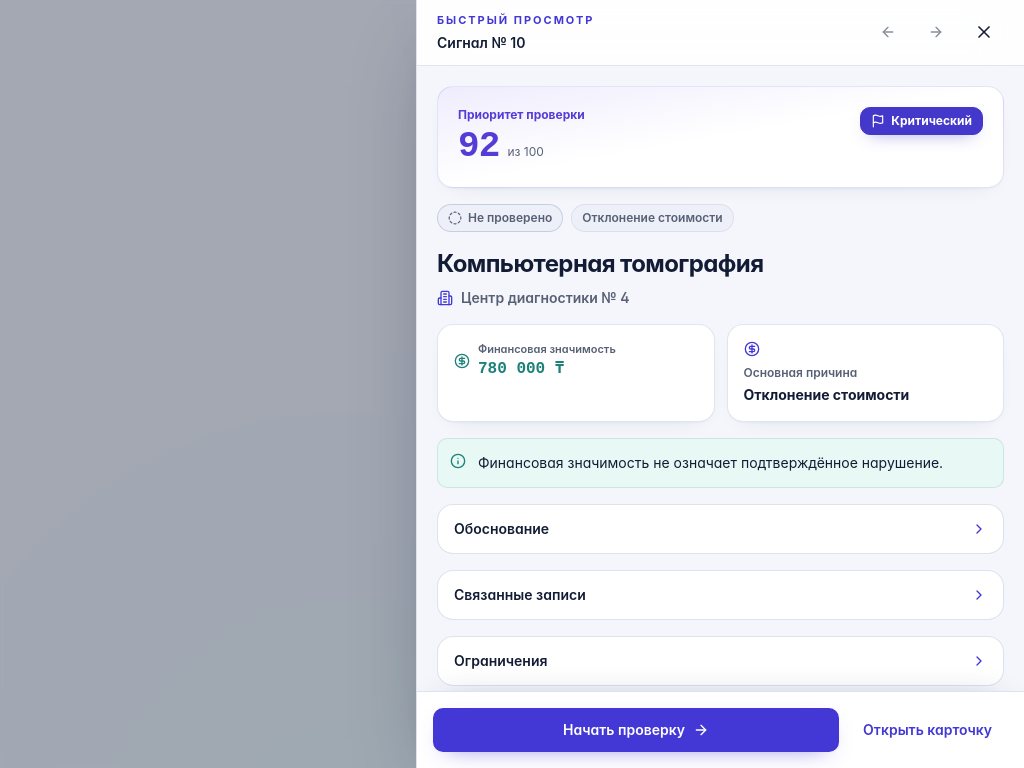
Test: быстрый просмотр сигнала › обновляет статус в панели после решения
Expected: the heading "Компьютерная томография" is shown, x1=437 y1=248 x2=763 y2=278
What coordinates should you click on to do the following:
click the button "Начать проверку"
I would click on:
 (636, 730)
Its box is x1=433 y1=708 x2=839 y2=752.
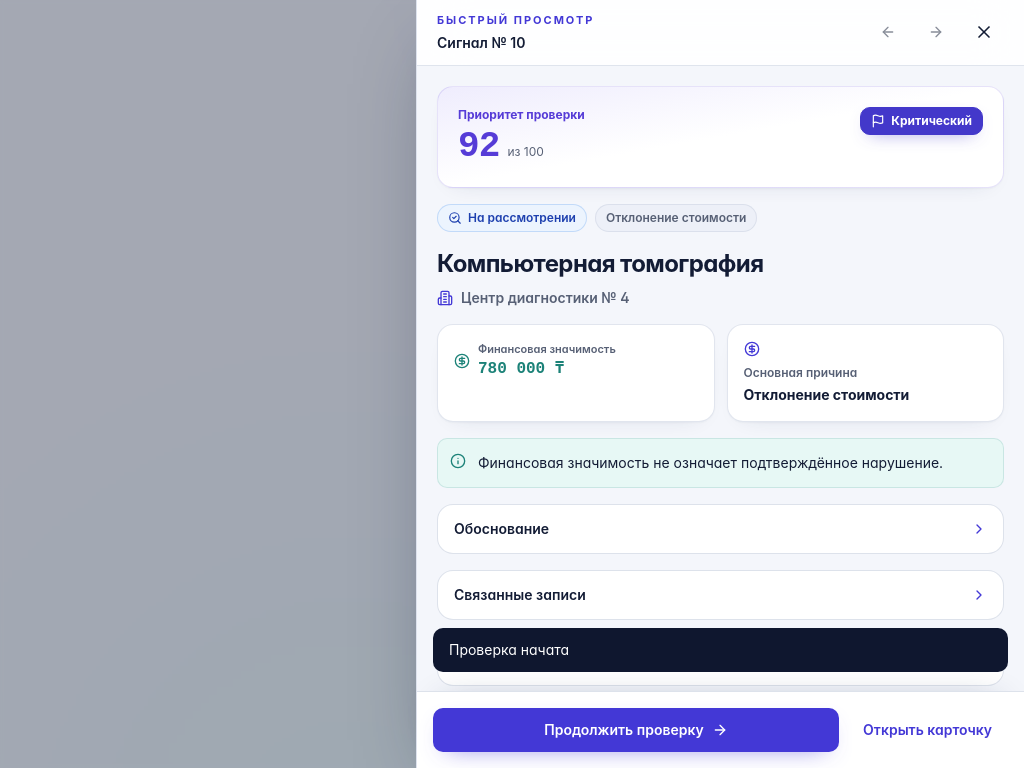
Result: the text "Проверка начата" is shown at x1=433 y1=628 x2=1008 y2=672
Result: the link "Продолжить проверку" is shown at x1=433 y1=708 x2=839 y2=752
